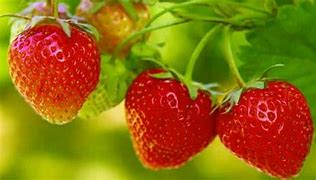Fresa: (7, 13, 102, 126), (125, 63, 221, 172), (215, 78, 314, 180)
